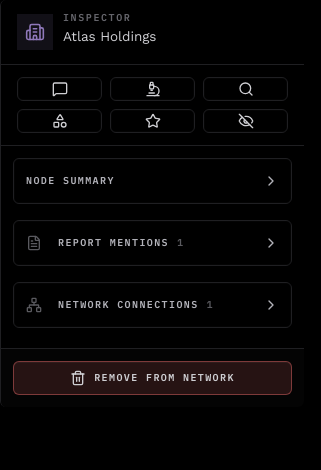
Test case: NetworkGraphInspectorPanel › renders network connection counts without the links badge copy
Click the button "Network Connections 1" at (152, 305), box [14, 283, 291, 327]
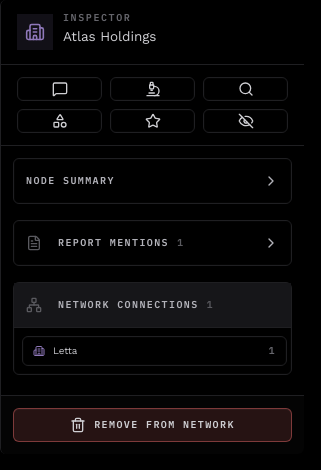
Expected: the text "Letta" is shown, [53, 343, 77, 359]
